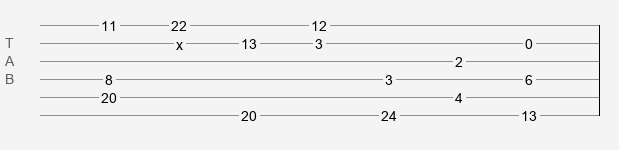0: (525, 36, 533, 46)
11: (101, 18, 117, 28)
12: (311, 18, 327, 28)
13: (241, 36, 257, 46), (521, 108, 537, 118)
2: (455, 54, 463, 64)
20: (101, 90, 117, 100), (241, 108, 257, 118)
22: (171, 18, 187, 28)
24: (381, 108, 397, 118)
3: (315, 36, 323, 46), (385, 72, 393, 82)
4: (455, 90, 463, 100)
6: (525, 72, 533, 82)
8: (105, 72, 113, 82)
x: (176, 37, 183, 45)
